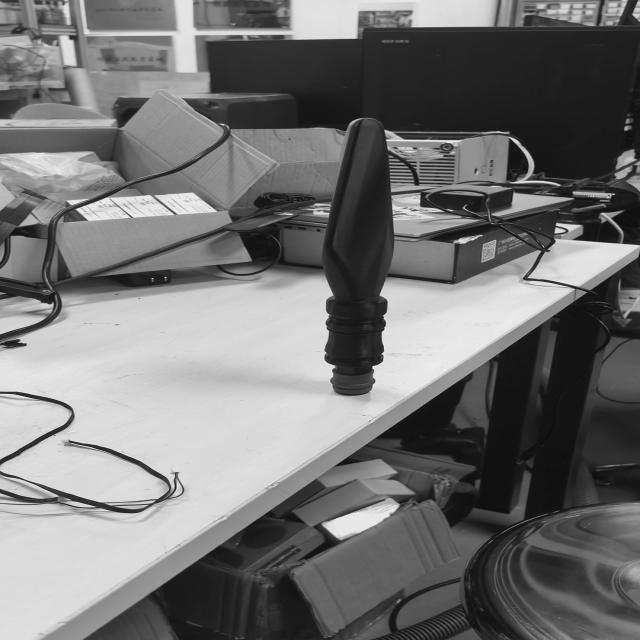base: (322, 372, 382, 401)
